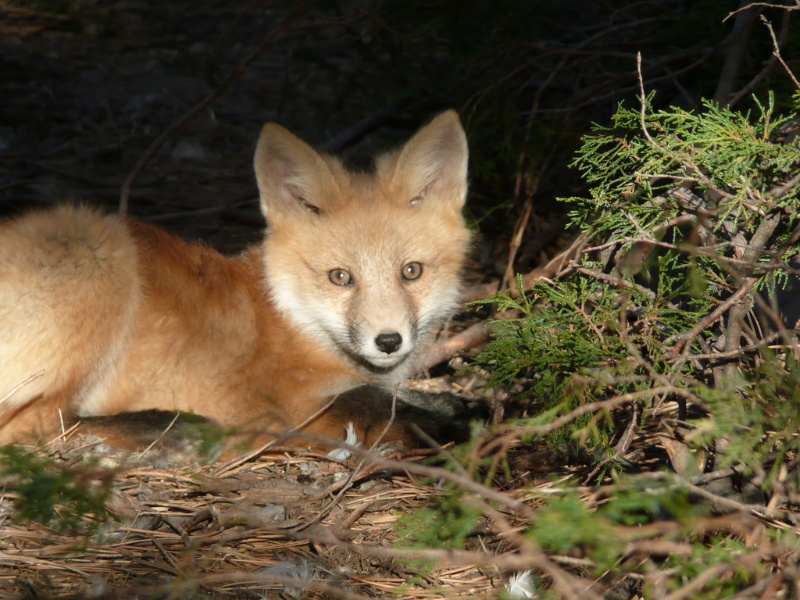fox: (1, 105, 479, 461)
